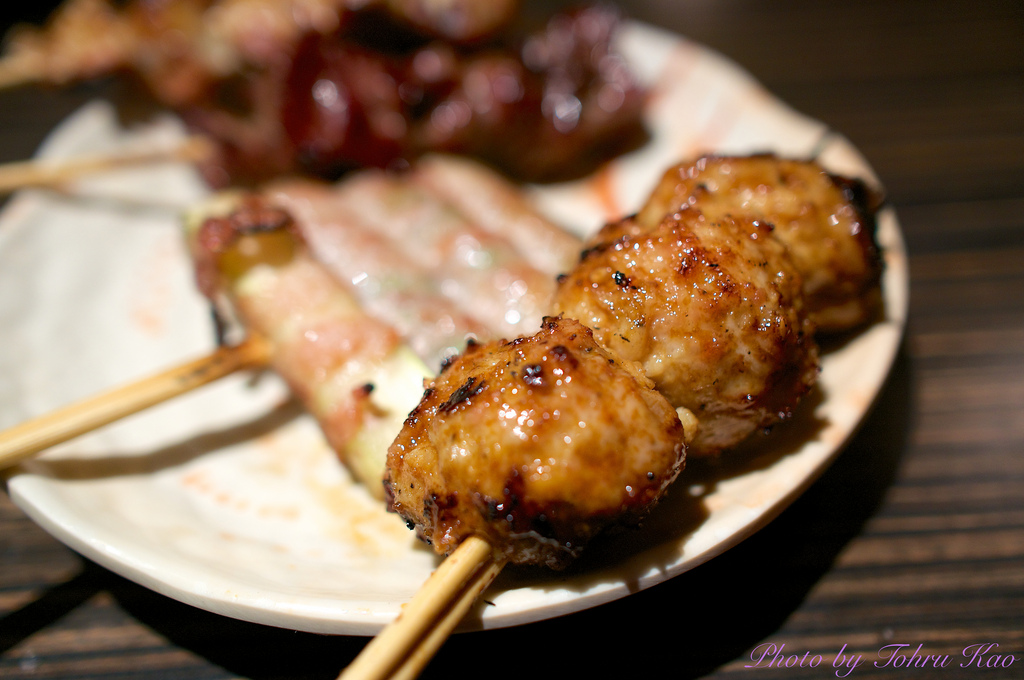meatballs: (395, 325, 656, 551), (567, 224, 812, 452), (667, 145, 869, 354)
